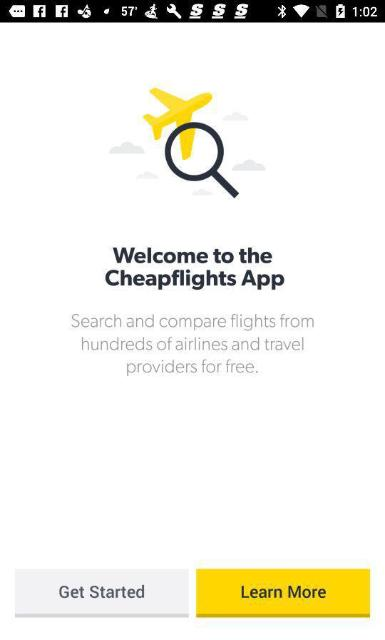Image: (108, 86, 266, 200)
Text: (70, 312, 314, 376), (105, 248, 284, 290), (60, 584, 144, 598), (242, 586, 326, 598)
TextButton: (196, 569, 370, 617), (15, 569, 189, 617)
UpperTaskBar: (0, 0, 384, 22)
